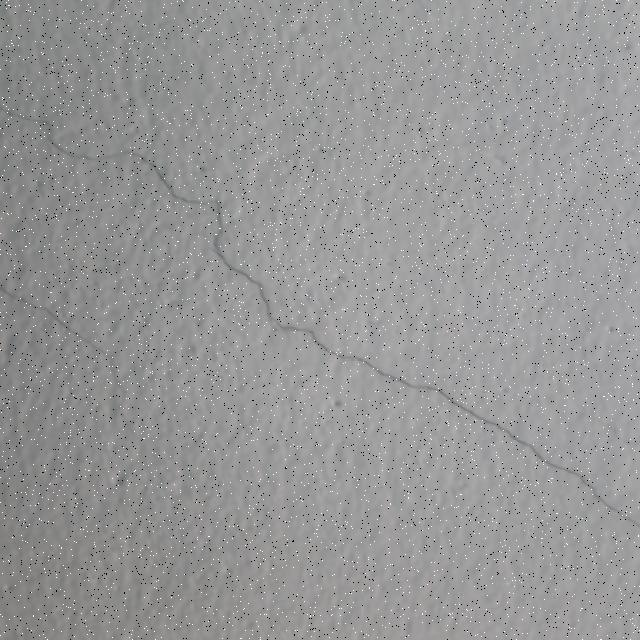Crack: (3, 90, 640, 524)
